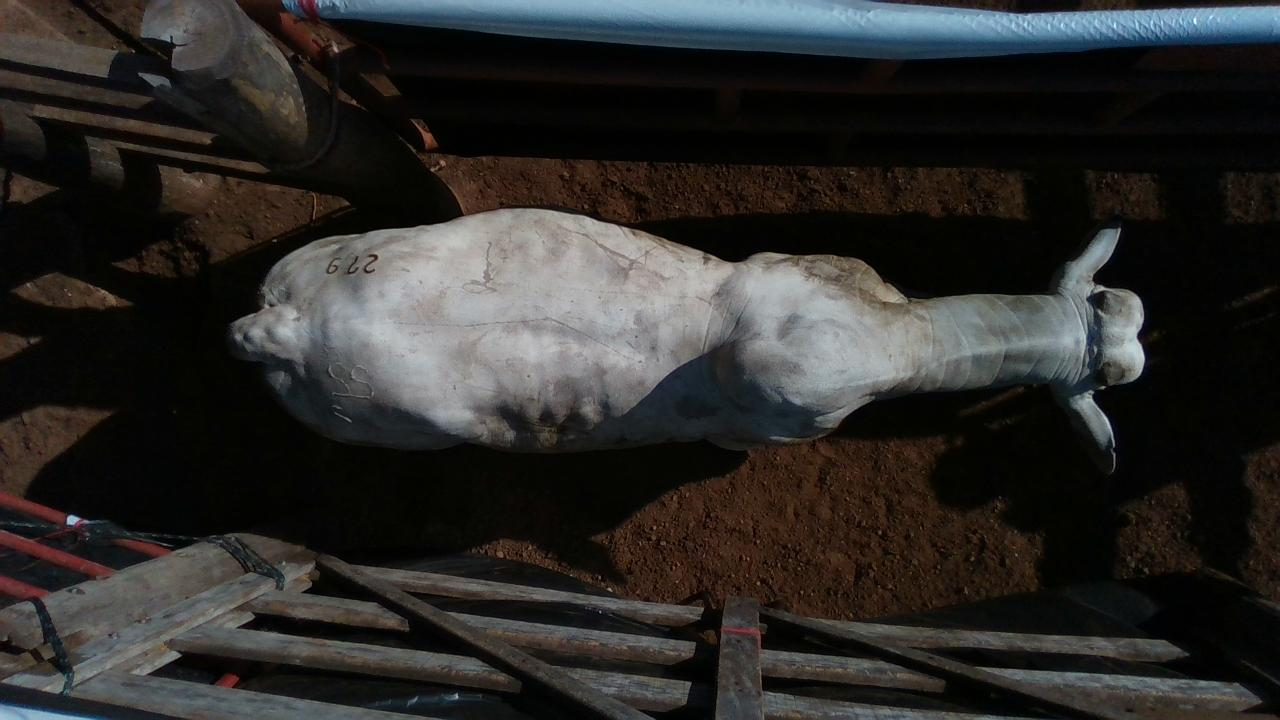cattle: (226, 204, 1147, 474)
